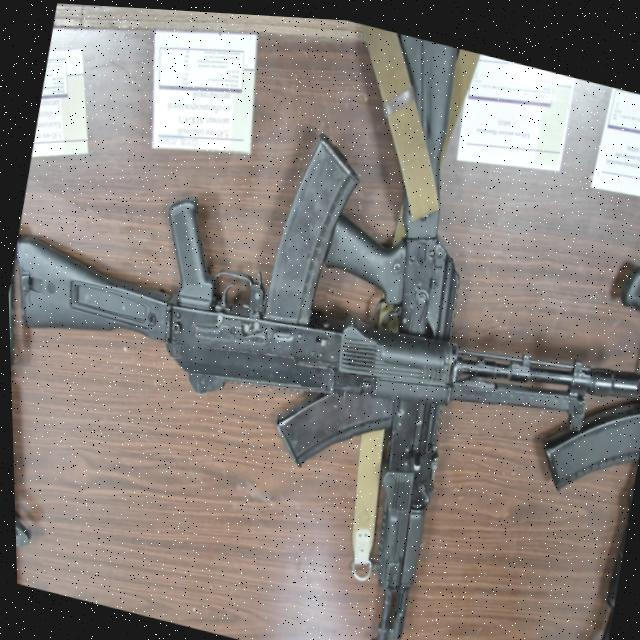firearm: (1, 52, 640, 494), (247, 15, 520, 640), (486, 210, 640, 640), (5, 231, 91, 589)
